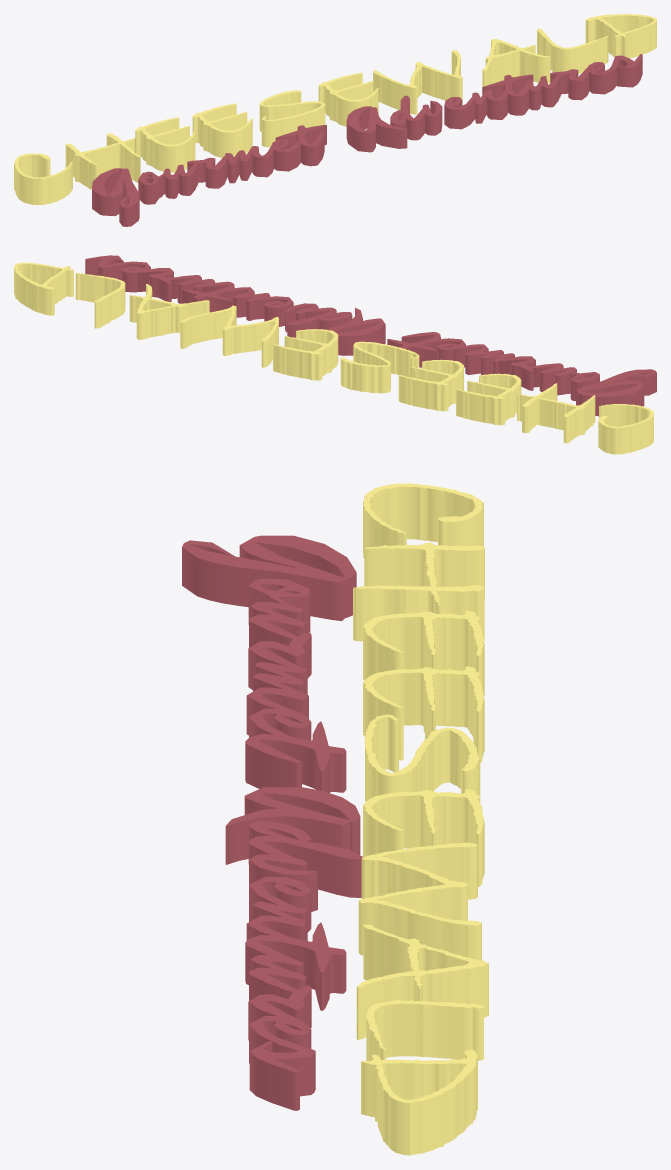
File: cheesewald_title.glb
The picture shows the model from 3 angles, top to bottom: view 1: azimuth 30°, elevation 25°; view 2: azimuth 150°, elevation 25°; view 3: azimuth 270°, elevation 25°; orthographic projection. The views are drawn at different scales.
Visible parts, largest first — view 1: Texto, Texto.001; view 2: Texto, Texto.001; view 3: Texto, Texto.001.
Boxes of the visible parts, x1=… form: Texto: x1=14, y1=14, x2=656, y2=205; Texto.001: x1=92, y1=54, x2=642, y2=226; Texto: x1=14, y1=262, x2=653, y2=454; Texto.001: x1=85, y1=255, x2=656, y2=416; Texto: x1=353, y1=483, x2=488, y2=1155; Texto.001: x1=182, y1=535, x2=363, y2=1110.
Size of the model in its own units: 6.86 by 0.271 by 1.44.
